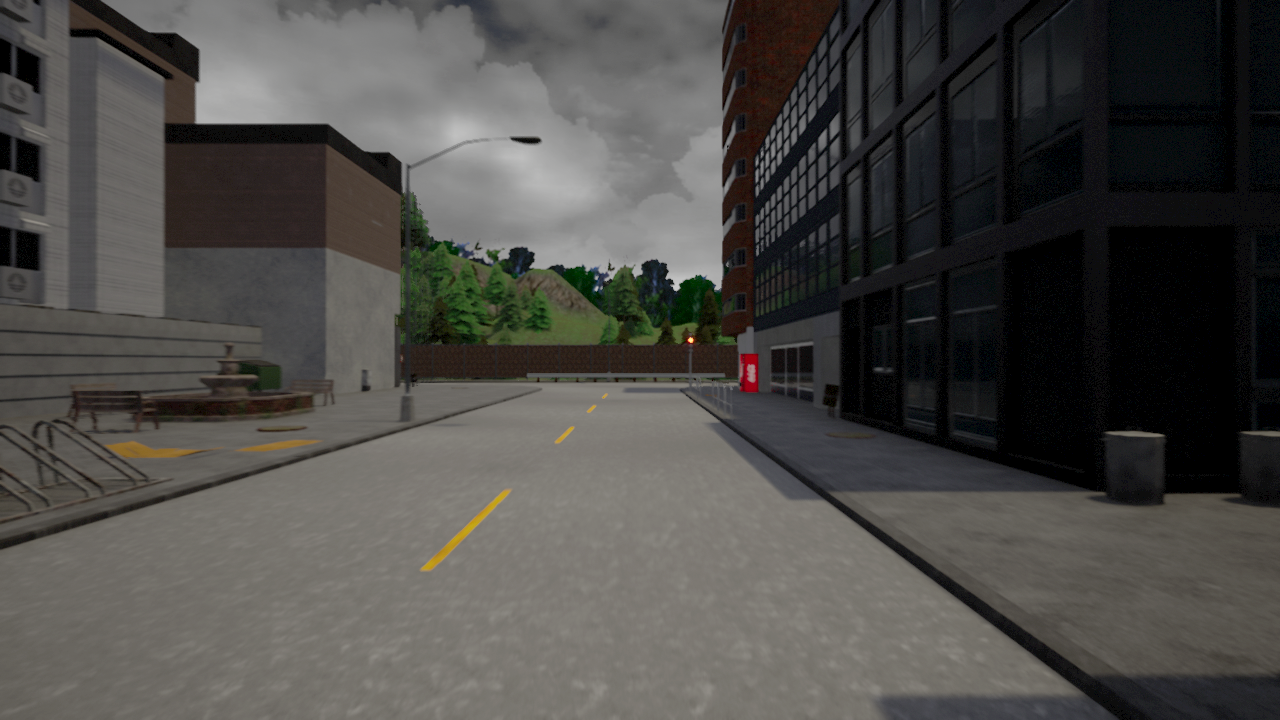red: (687, 335, 694, 353)
